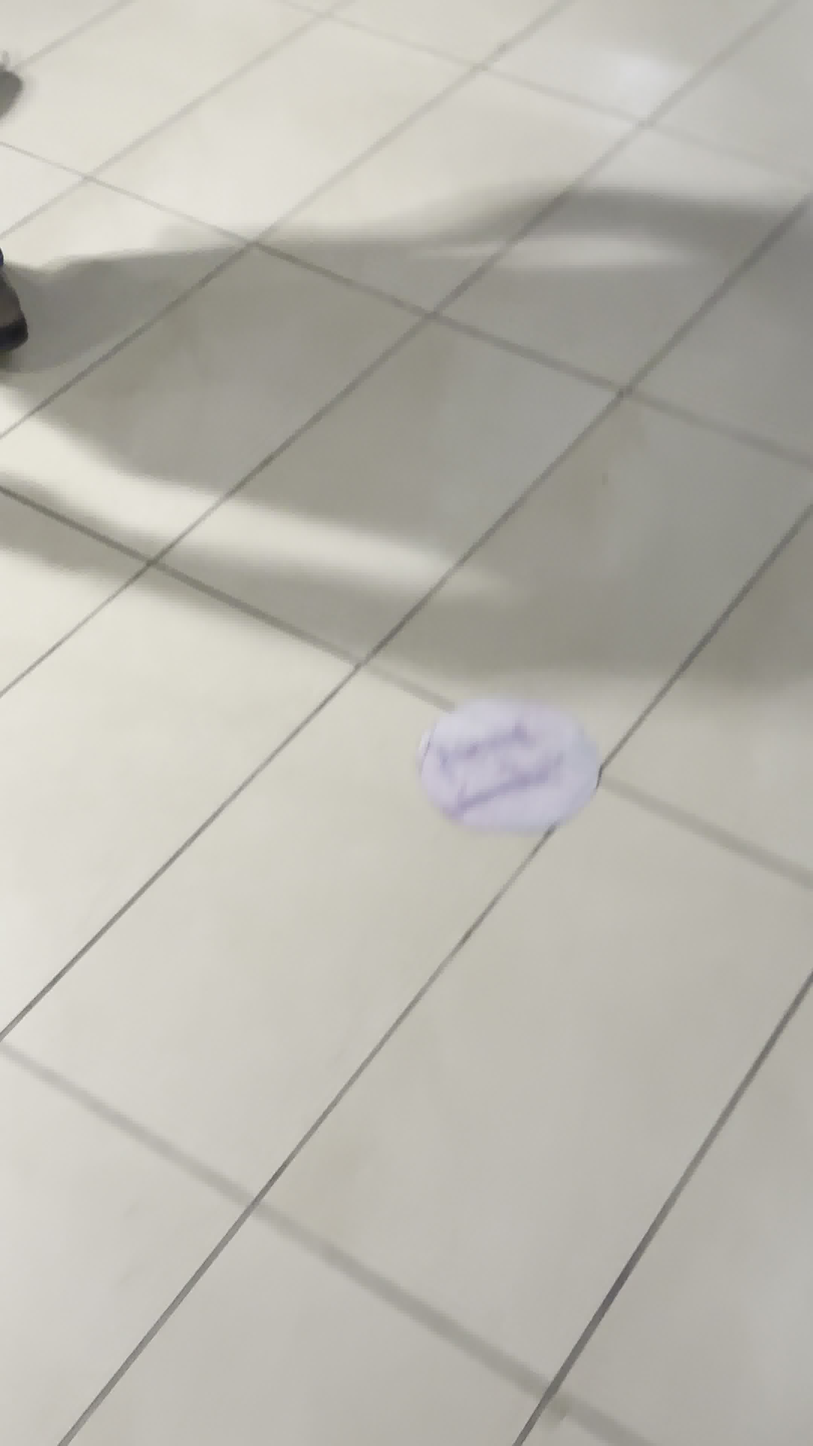Target: (424, 696, 599, 833)
